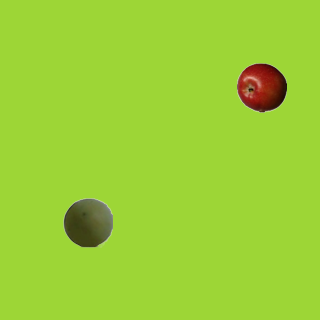Apple Braeburn: (236, 62, 286, 112)
Grape White 4: (62, 197, 112, 247)
